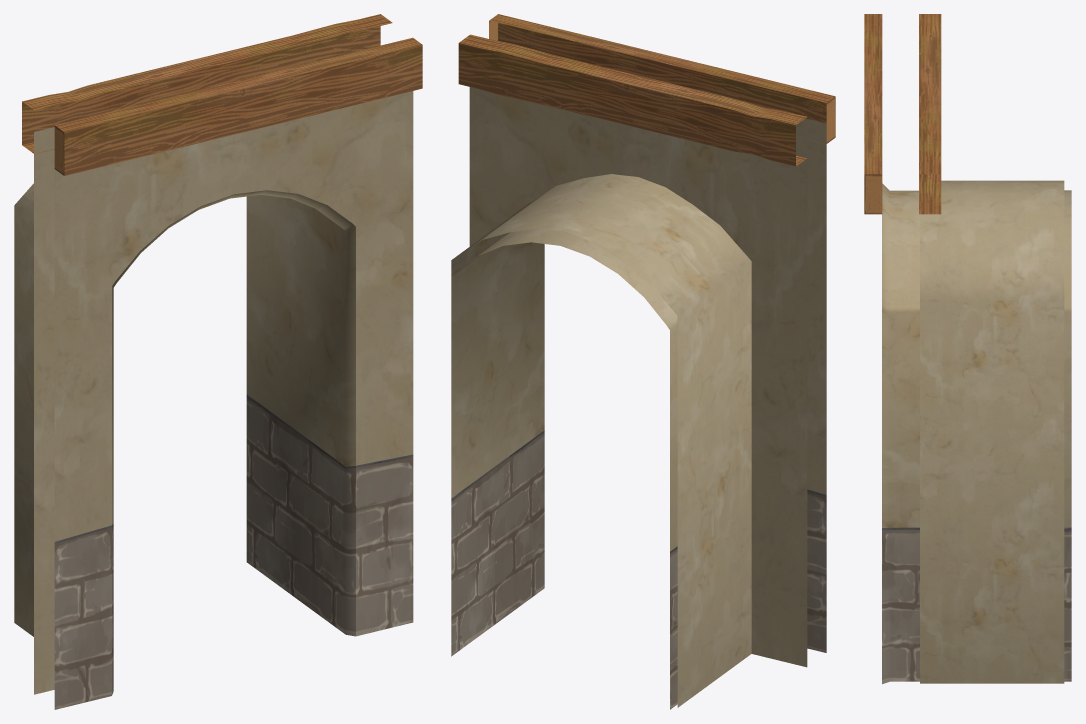
The model's file is Wall_Plaster_Door_RoundInset.gltf.
3 renders of one model, left to right at view 1: azimuth 30°, elevation 25°; view 2: azimuth 150°, elevation 25°; view 3: azimuth 270°, elevation 25°, orthographic. The views are drawn at different scales.
Visible parts, largest first — view 1: Wall_Plaster_Door_RoundInset; view 2: Wall_Plaster_Door_RoundInset; view 3: Wall_Plaster_Door_RoundInset.
Part boxes in pixels (box(x1,y1,x2,y2)): Wall_Plaster_Door_RoundInset: box(14, 14, 422, 709); Wall_Plaster_Door_RoundInset: box(451, 14, 835, 709); Wall_Plaster_Door_RoundInset: box(864, 14, 1071, 684).
Bounding box in the file's own units: 2 × 3.12 × 1.09.
3 materials, 3 textured.
